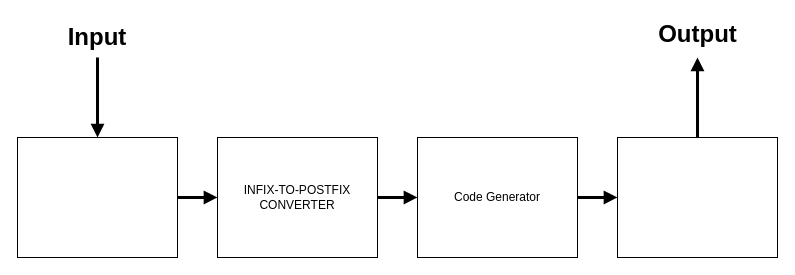
Some shapes in this 795 by 275 pixel diagram are drawn without their labels. Each missing label, with the box of its shape:
Interpreter/ Virtual machine: (616, 136, 778, 258)
TOKENIZER: (16, 136, 178, 258)
